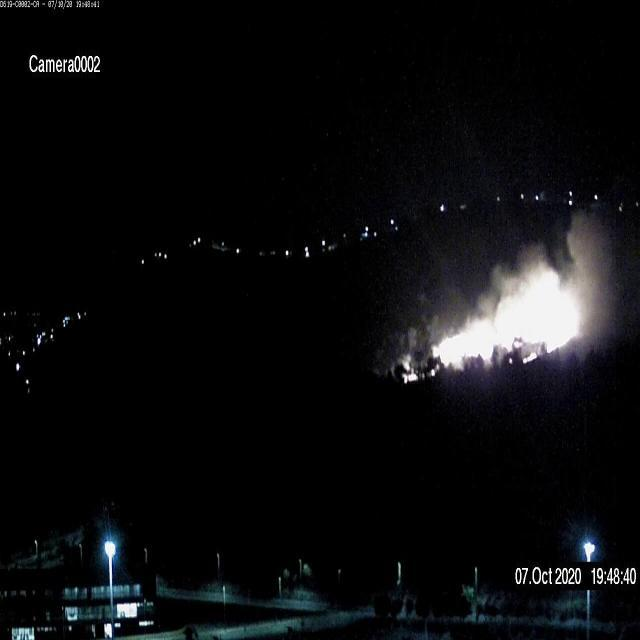Fire: (430, 268, 582, 374), (399, 360, 420, 384)
